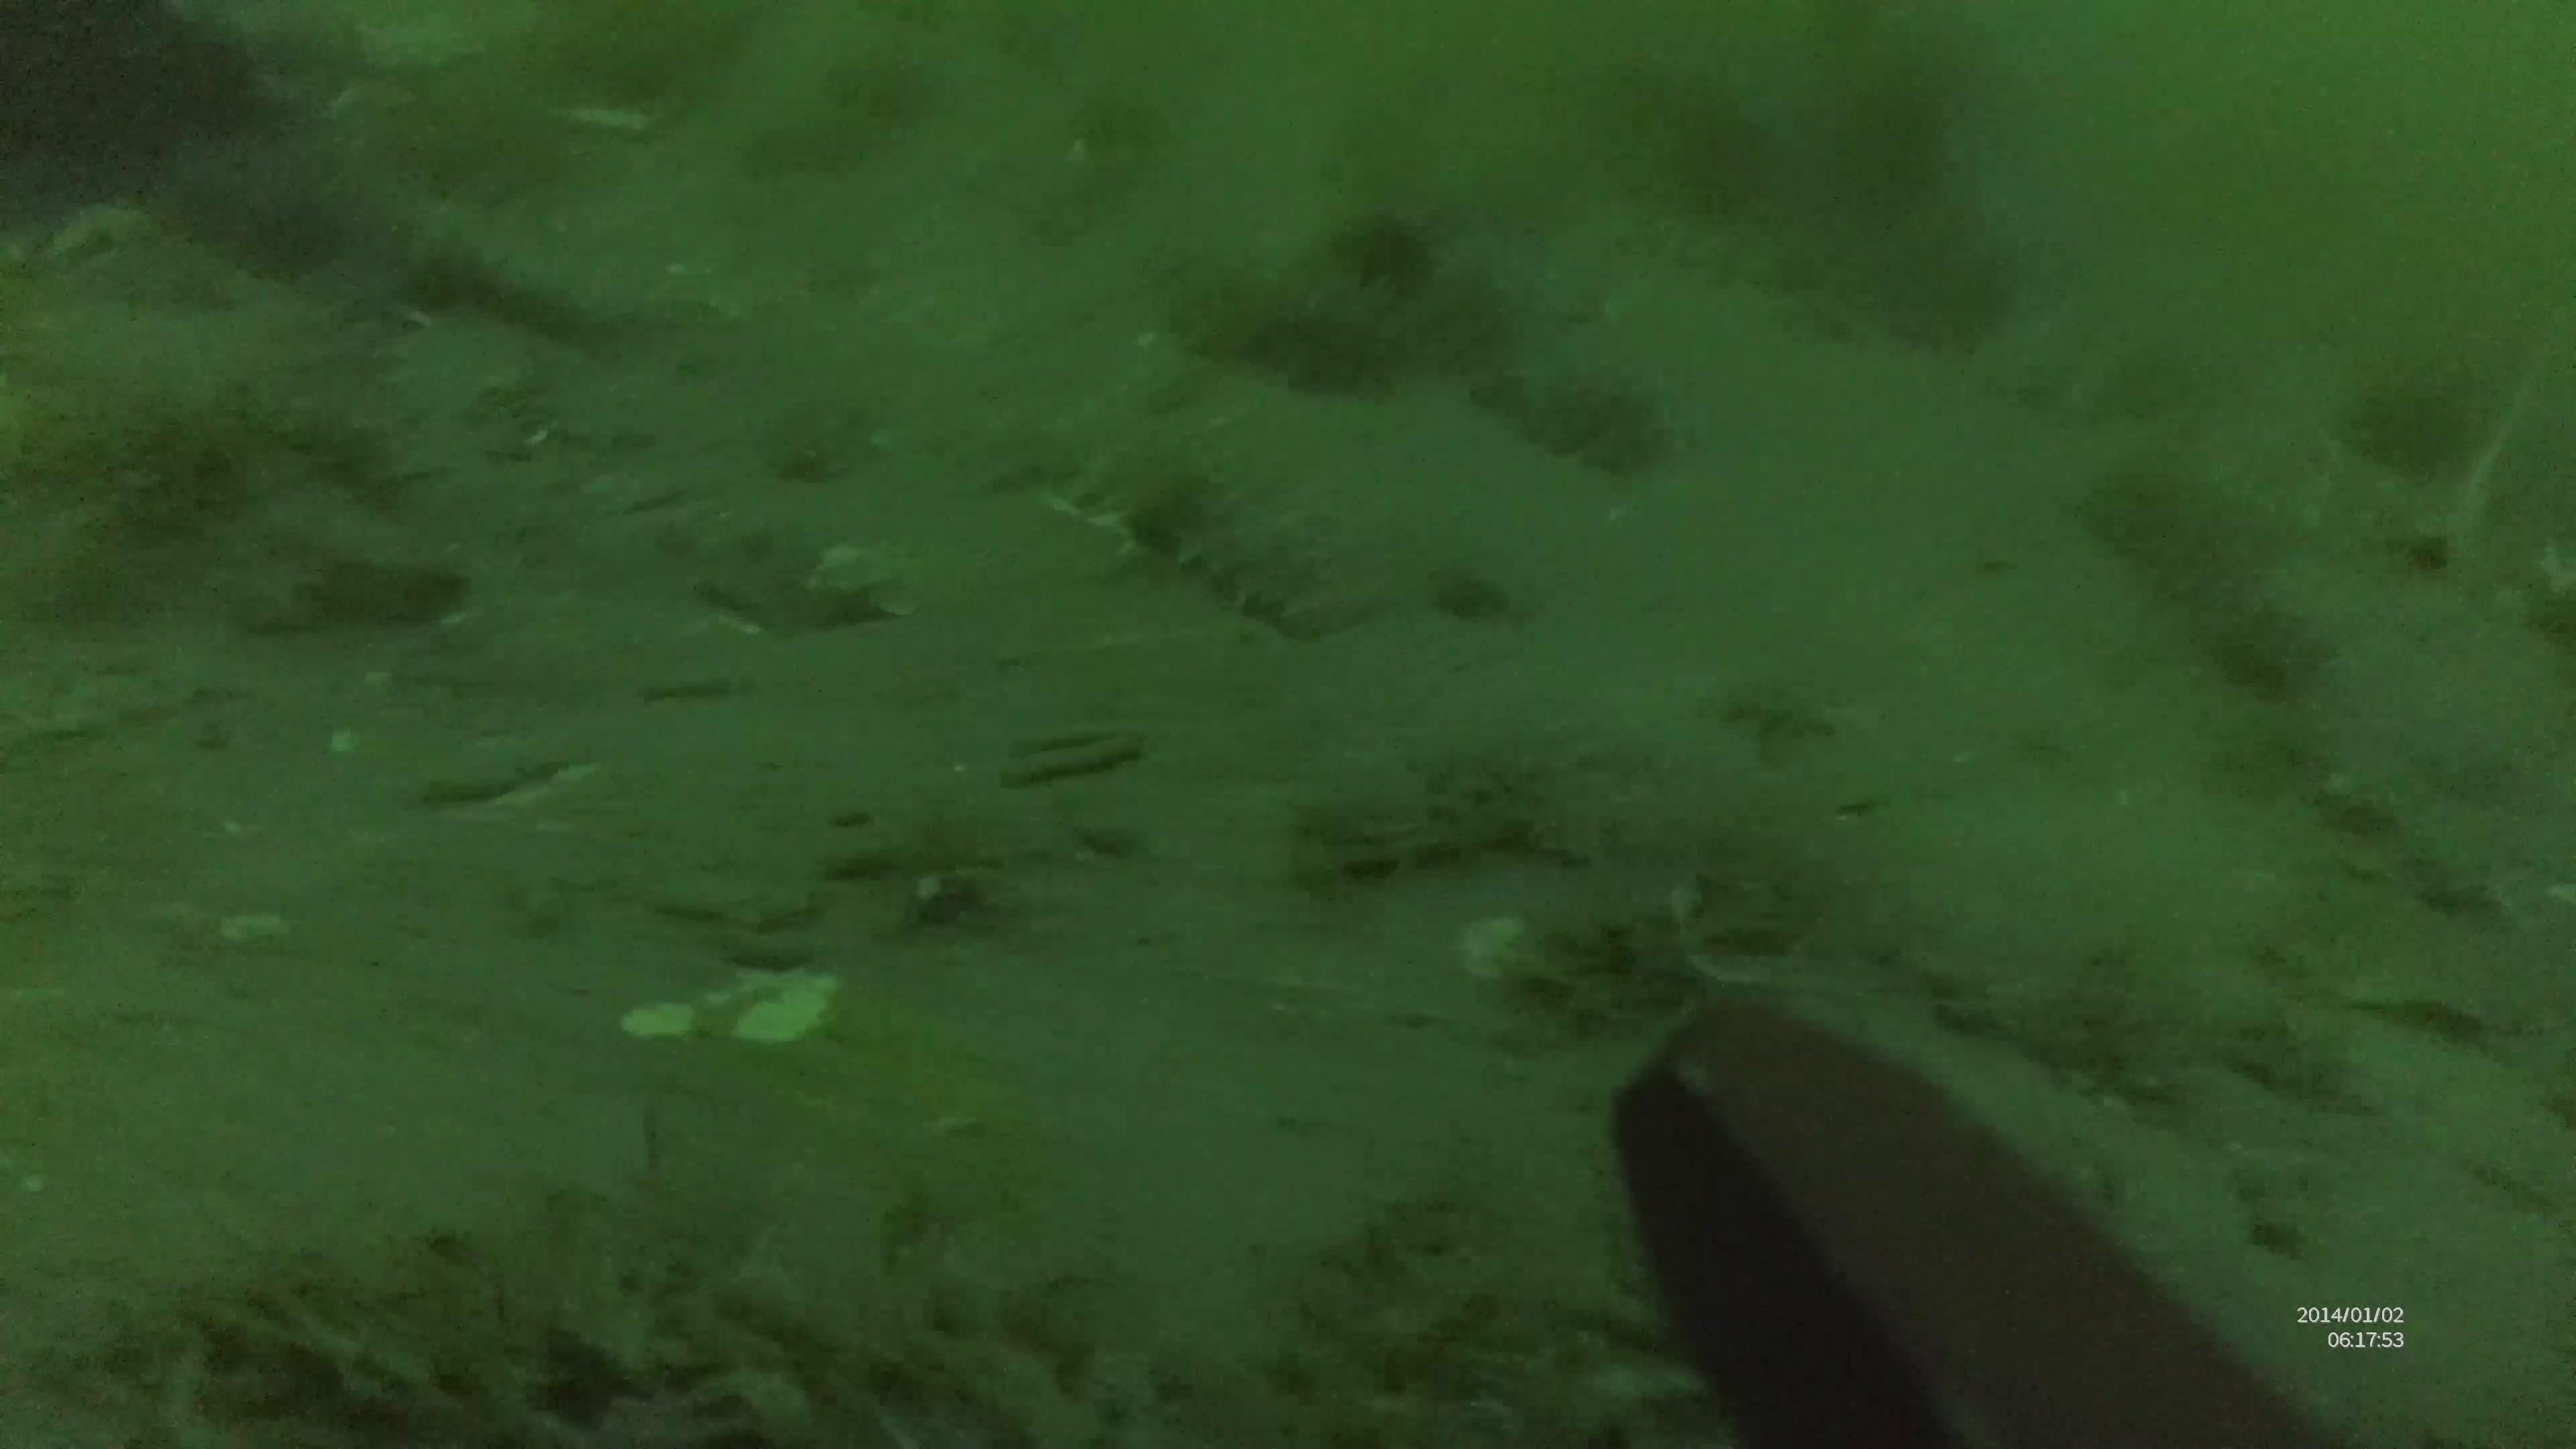echinus: (1329, 203, 1444, 301)
holothurian: (1122, 458, 1352, 644)
